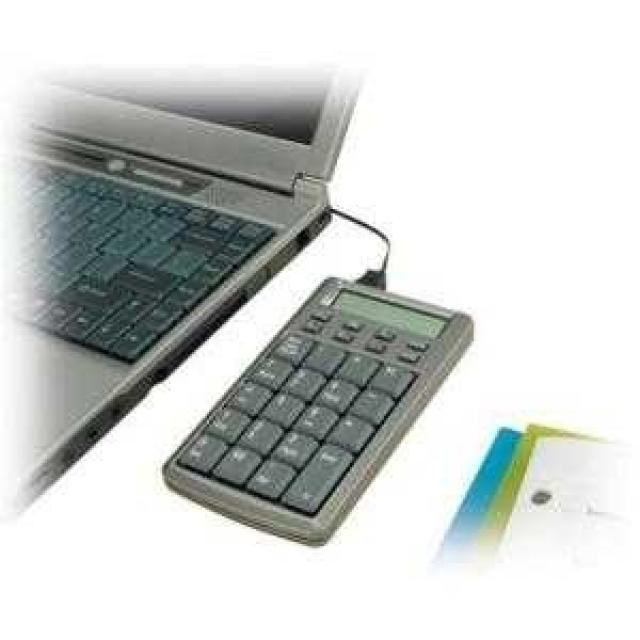Calculator: (160, 273, 474, 546)
